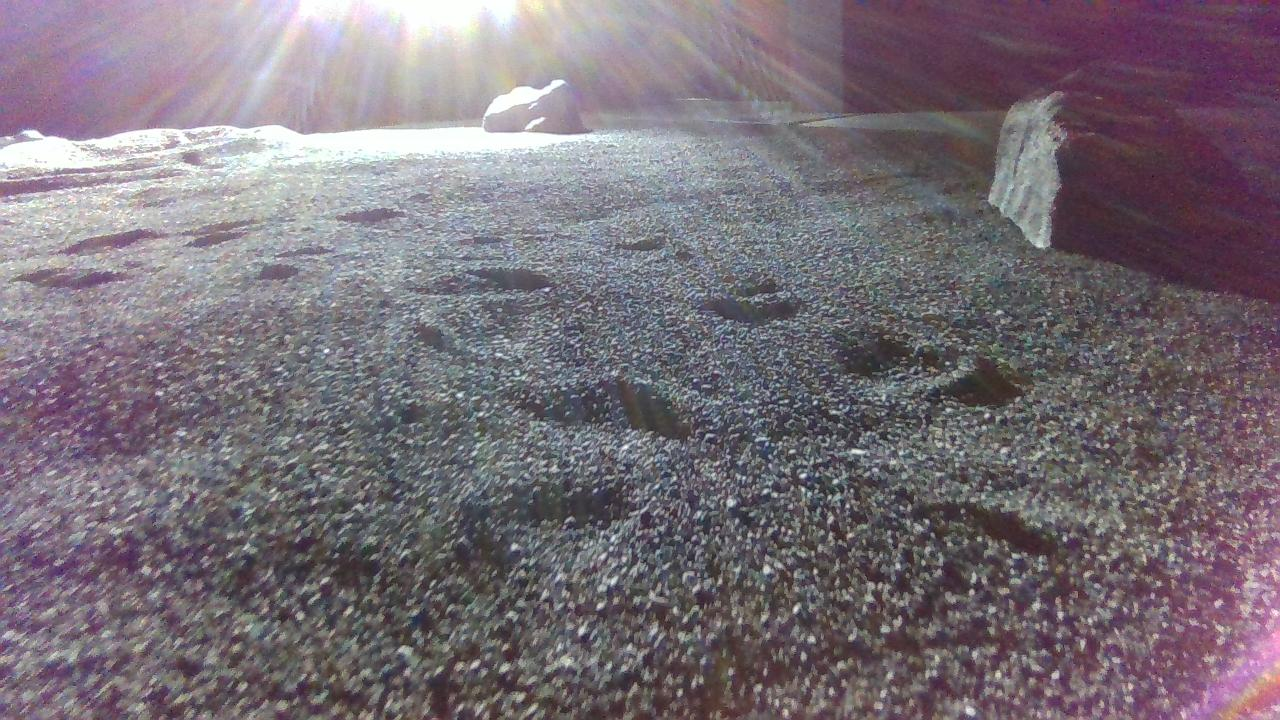rock: (993, 86, 1235, 249), (482, 78, 586, 133)
